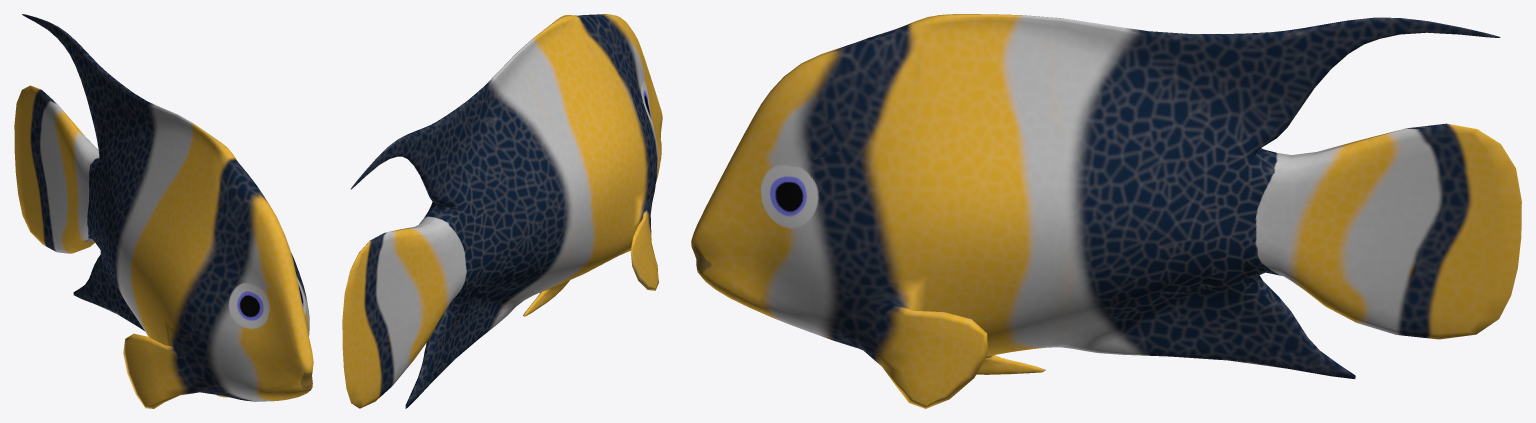
Rendered from Tropical Fish_06.fbx.
The picture shows the model from 3 angles, left to right: view 1: azimuth 30°, elevation 25°; view 2: azimuth 150°, elevation 25°; view 3: azimuth 270°, elevation 25°; orthographic projection. The views are drawn at different scales.
Parts seen in each view (by area): view 1: TropicalFish06; view 2: TropicalFish06; view 3: TropicalFish06.
Part boxes in pixels (x1,y1,x2,y2): TropicalFish06: (14, 14, 313, 408); TropicalFish06: (342, 14, 662, 408); TropicalFish06: (691, 14, 1521, 408).
Size of the model in its own units: 0.4896 by 0.7404 by 1.53.
1 material, 1 textured.
